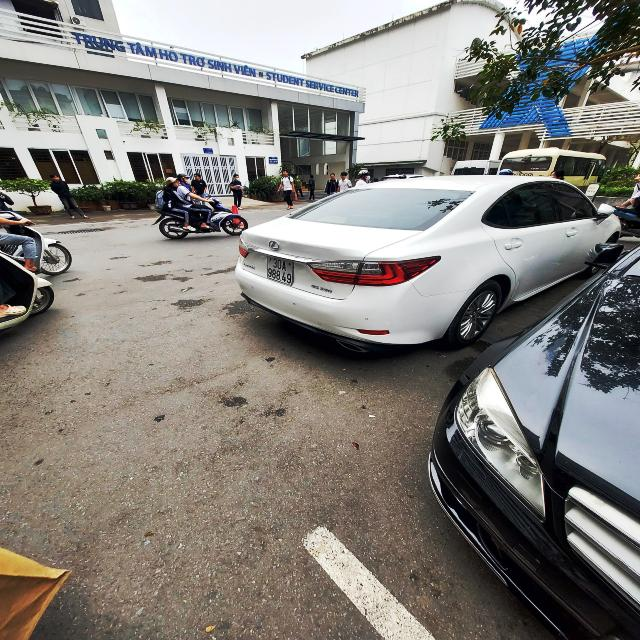license_plate: (268, 256, 295, 287)
